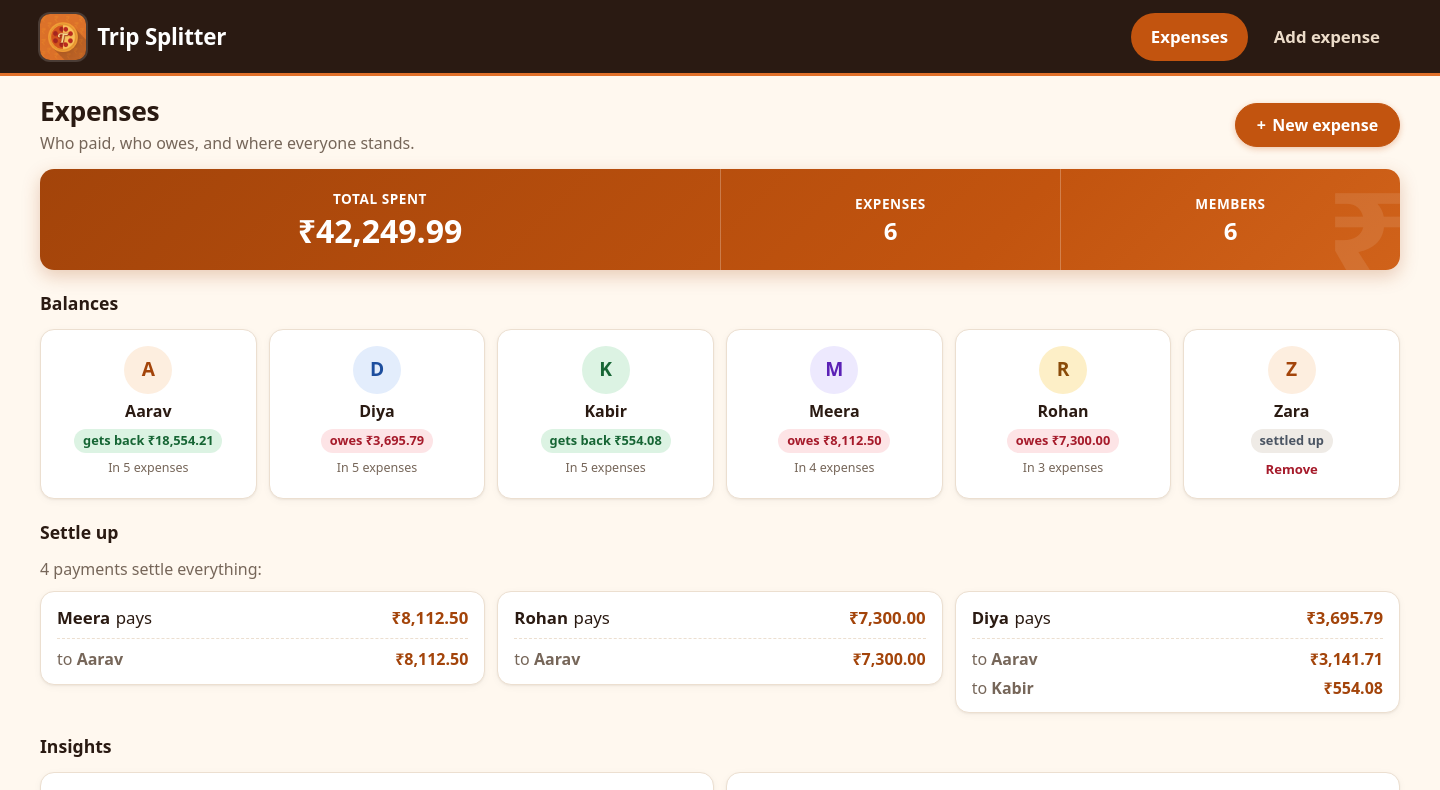
Test: removing a member › removes someone who is in no expense, after confirming
Step 1. Click the button with aria-label "Remove Zara" → (1292,470), box [1259, 459, 1324, 482]
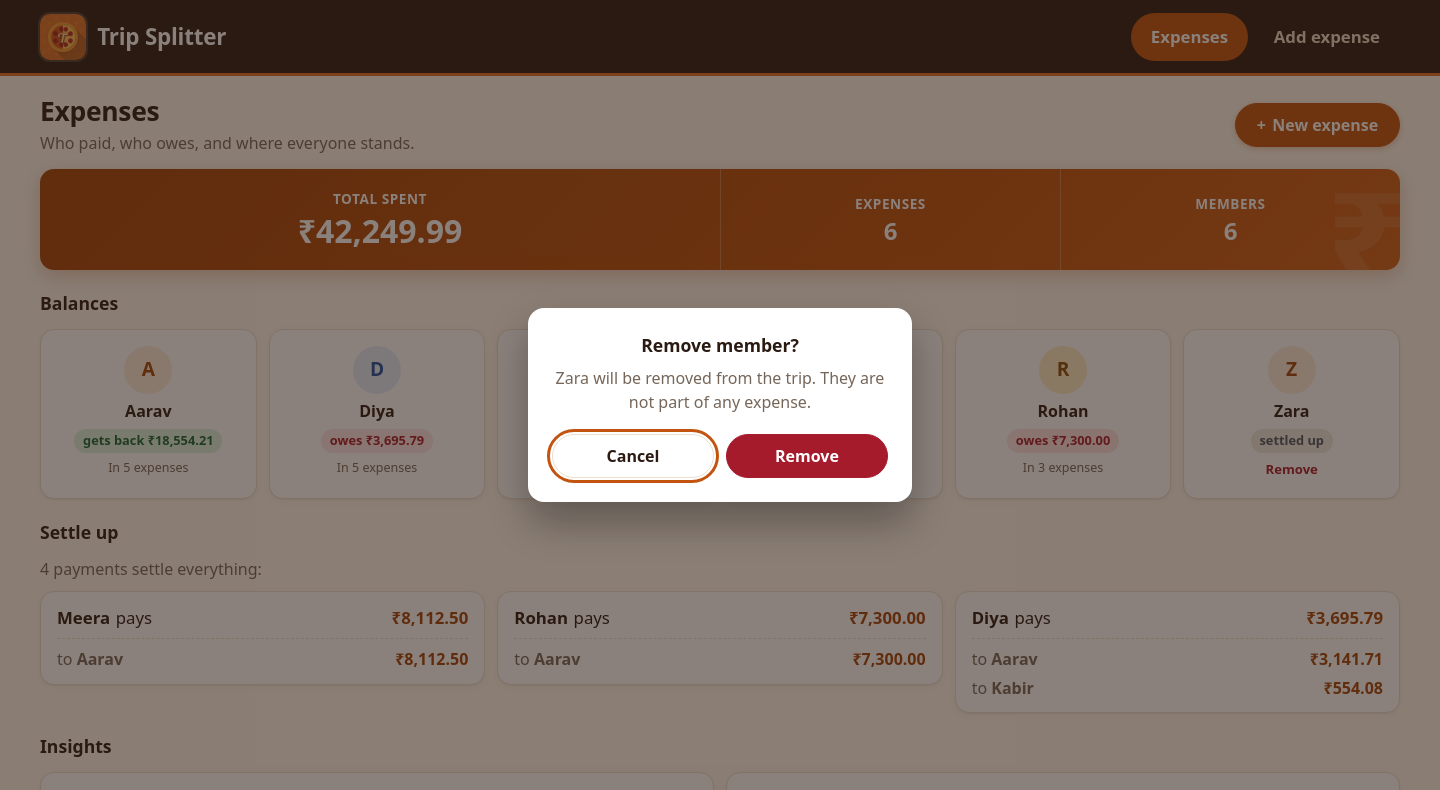
Step 2. Click the button "Remove" → (807,456), box [726, 434, 888, 478]
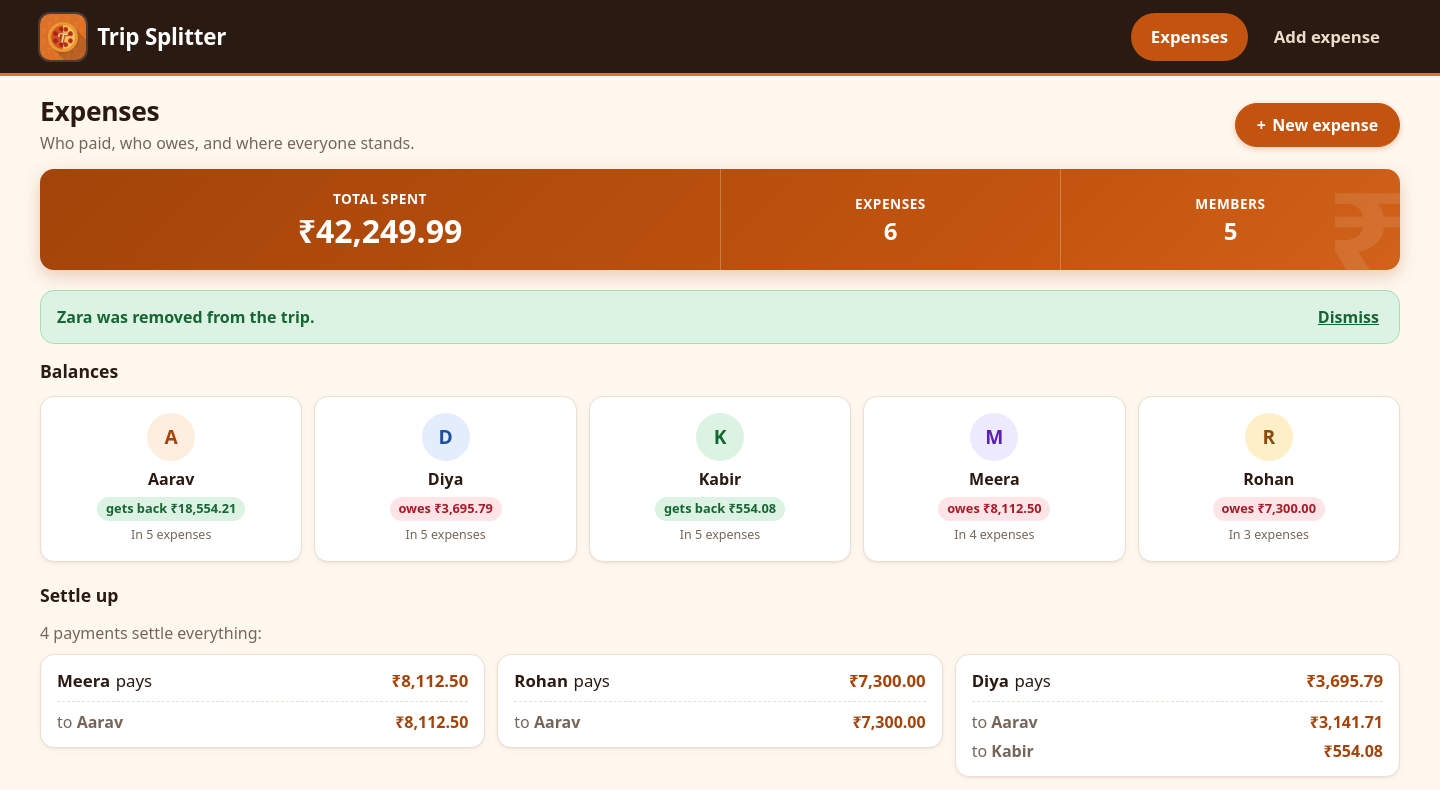
expect the text "Zara" is not shown: met
expect the message shows "Zara was removed": met, box [57, 306, 314, 328]
